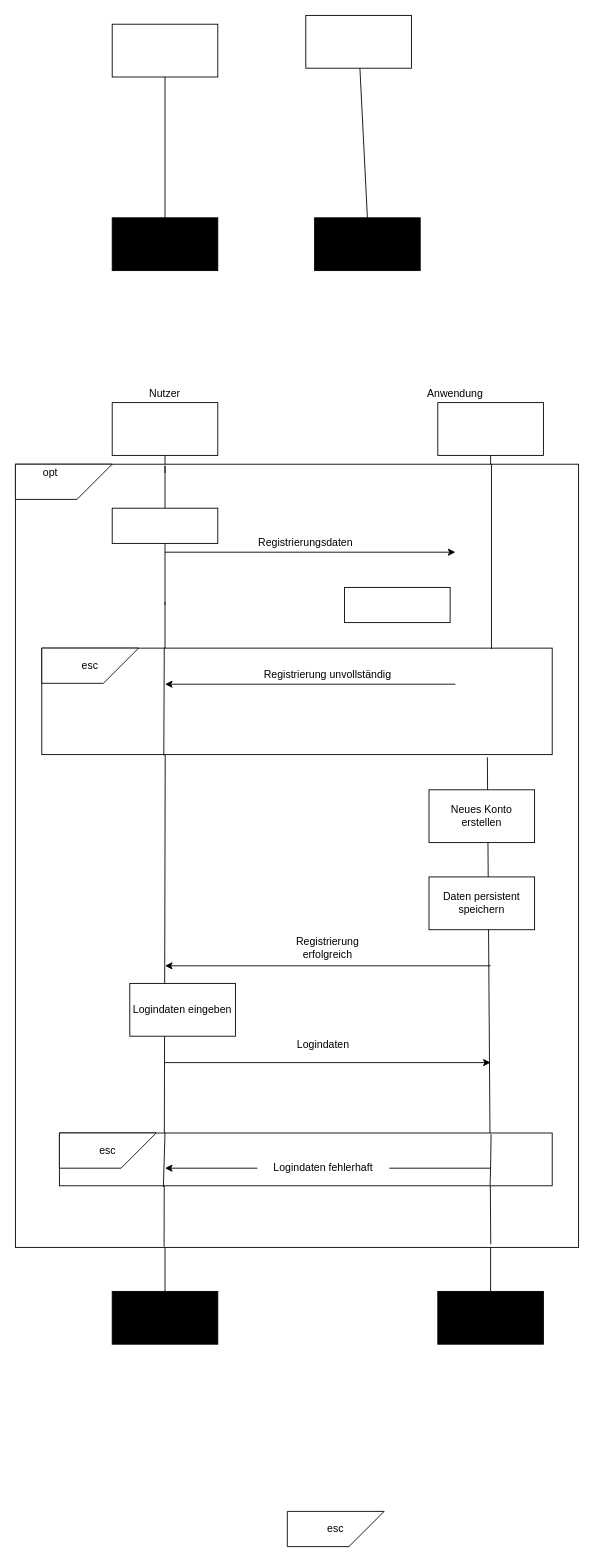
The diagram is 594 pixels wide and 1562 high, and some of its shapes have lost their labels. Each missing label, with the centre of its shape:
Registrierungsdaten eingeben: (164,525)
Registrierungsdaten prüfen: (397,605)
